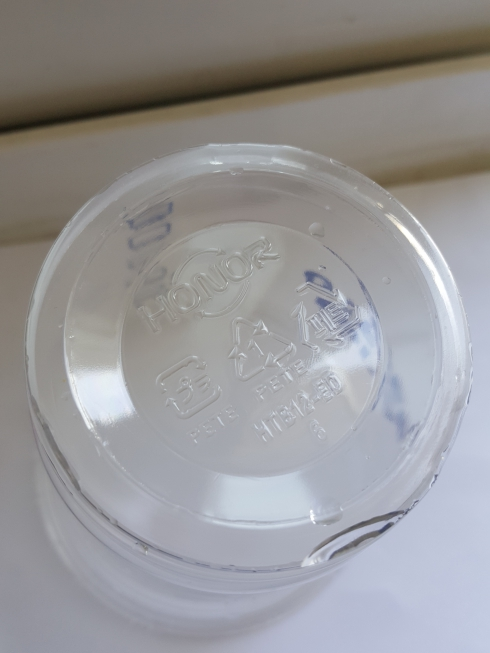recycle: (220, 312, 311, 395)
